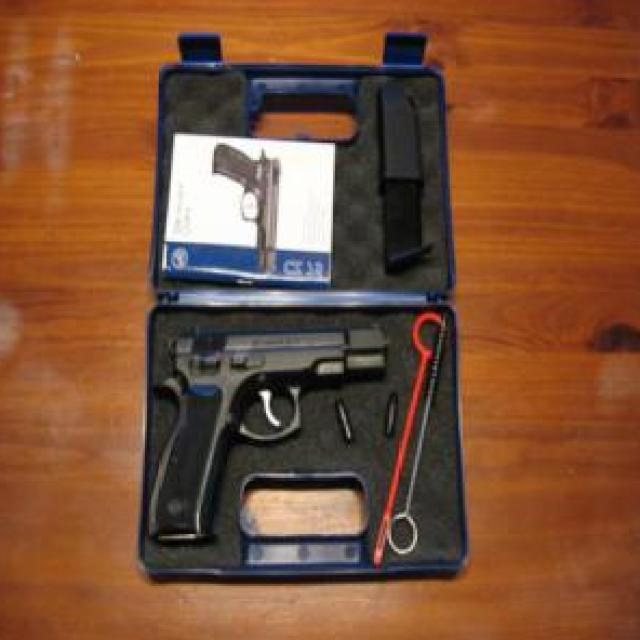pistol: (148, 324, 391, 543), (210, 147, 281, 275)
